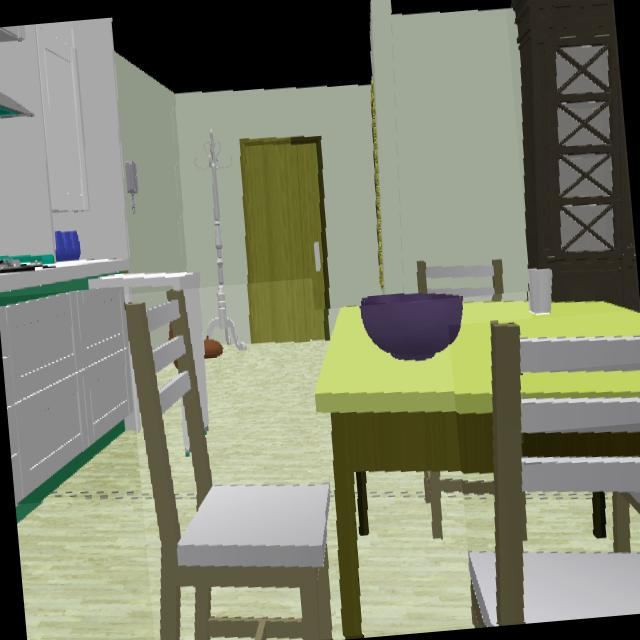bookshelf: (513, 0, 639, 309)
cabinet: (0, 289, 130, 503), (37, 21, 87, 211)
chair: (126, 290, 332, 640), (471, 322, 640, 625)
stove: (0, 258, 42, 271)
table: (315, 300, 640, 635), (523, 371, 640, 399), (524, 431, 640, 456)
